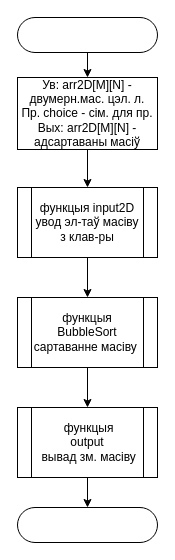
This 175x560 diagram has some shape labels left out. Each missing label, with the centre of its shape:
"Канец" goes at point 87,524.
"Пачатак" goes at point 87,34.
